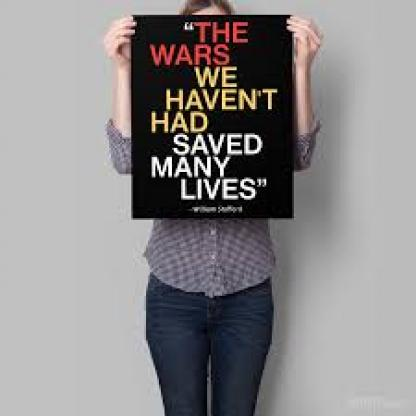BANNER: (129, 15, 316, 220)
